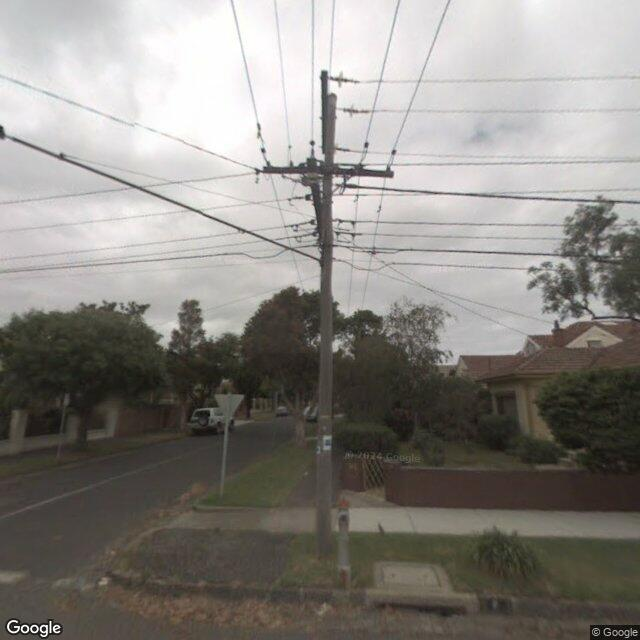HV-transmission: (320, 69, 369, 153)
crossarm: (289, 156, 362, 245), (259, 139, 396, 178), (321, 69, 329, 153)
timber-pole: (315, 92, 338, 557)
